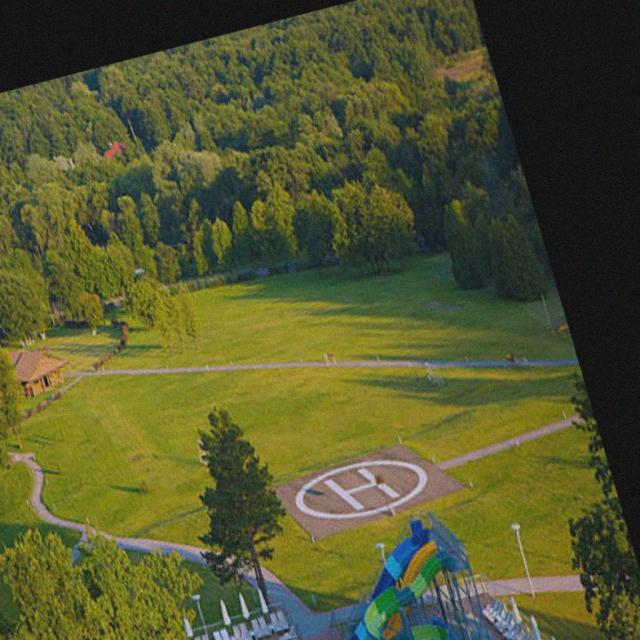helipad: (290, 456, 429, 521)
